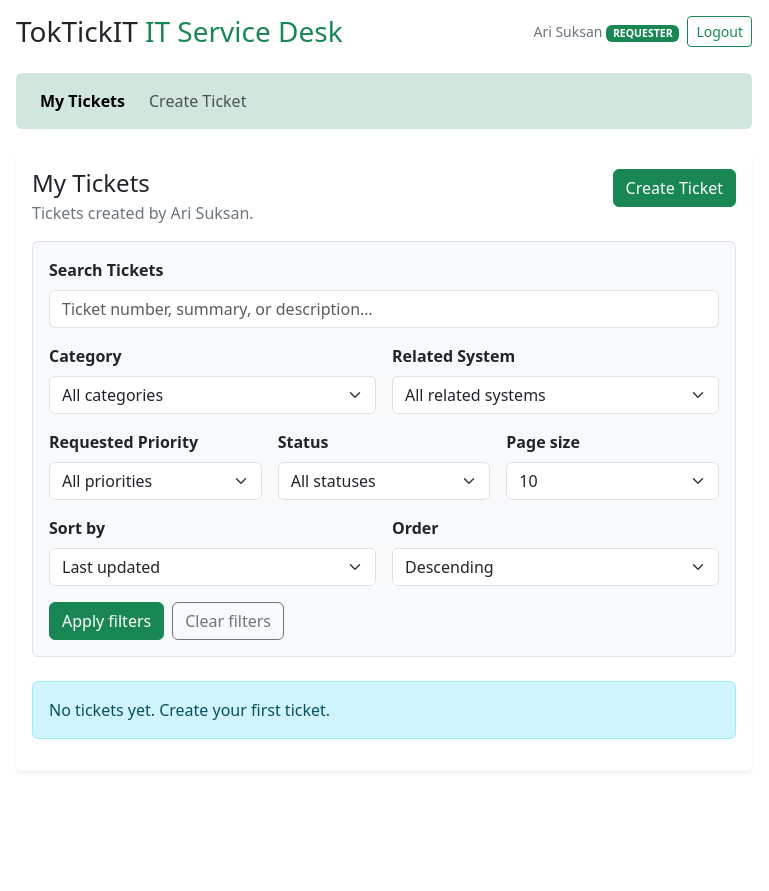
Test: Create Ticket UI › shows the selected requester and reference data from the APIs
The image size is (769, 891).
Expected: the heading "My Tickets" is shown, 32,166 -> 150,199
Click the link "Create Ticket".
click(198, 101)  # box 149,90 -> 246,112
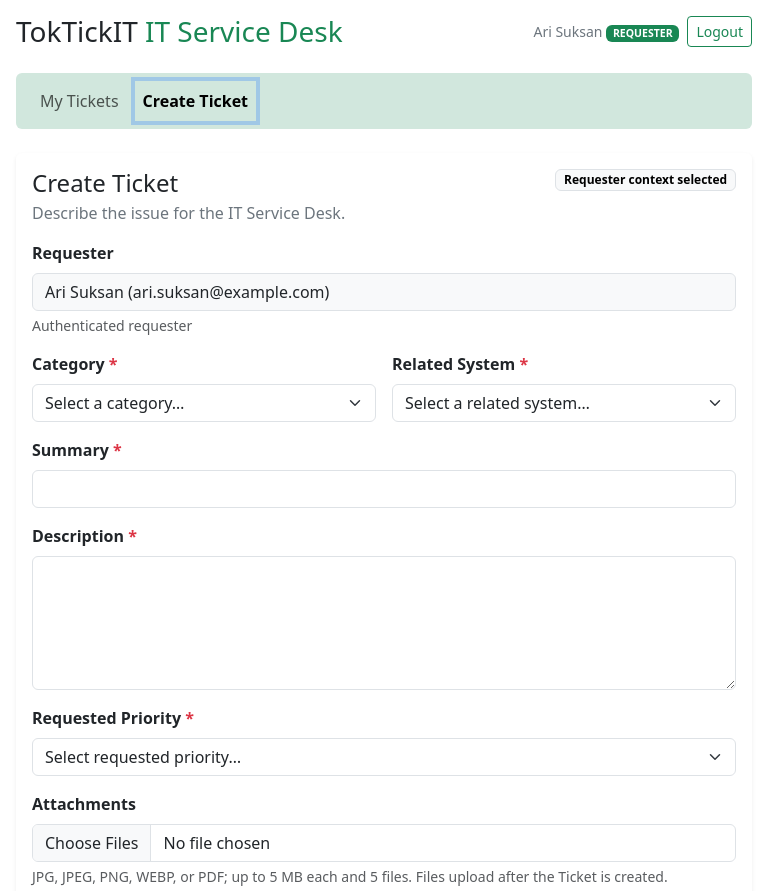
Result: the heading "Create Ticket" is shown at 32,166 -> 178,199
Result: the dropdown labelled "Category *" is shown at 32,384 -> 376,422
Result: the field showing "Ari Suksan (ari.suksan@example.com)" is shown at 32,273 -> 736,311
